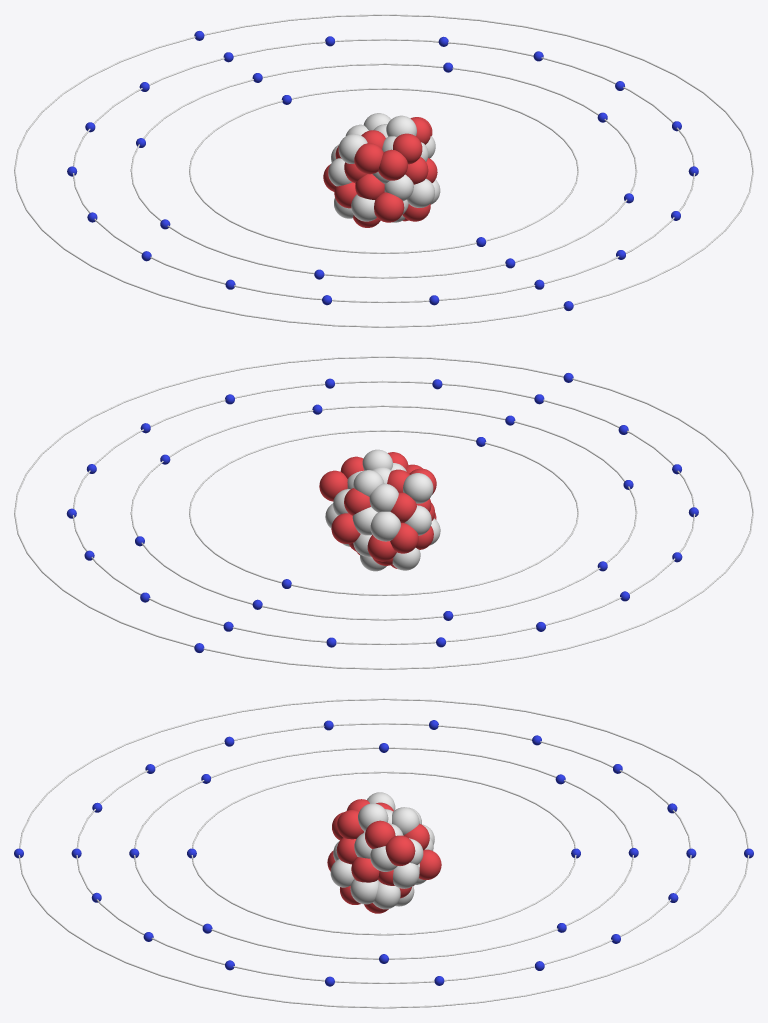
File: Zink.glb
The picture shows the model from 3 angles, top to bottom: view 1: azimuth 30°, elevation 25°; view 2: azimuth 150°, elevation 25°; view 3: azimuth 270°, elevation 25°; orthographic projection.
Parts seen in each view (by area): view 1: N-Schale, M-Schale, L-Schale, K-Schale, Proton 24, Proton 27, Proton 28, Proton 30, Proton 10, Neutron 27, Neutron 35; view 2: N-Schale, M-Schale, L-Schale, K-Schale, Neutron 8, Neutron 35, Neutron 16, Proton 18, Proton 29, Proton 4, Neutron 30, Proton 12; view 3: N-Schale, M-Schale, L-Schale, K-Schale, Proton 29, Proton 26, Proton 30, Neutron 34, Proton 22, Neutron 32, Neutron 33, Neutron 31 (+2 smaller).
Part boxes in pixels (x1,y1,x2,y2): N-Schale: (14,14,753,327); M-Schale: (72,38,695,303); L-Schale: (130,63,637,278); K-Schale: (189,88,578,253); Proton 24: (374,192,404,222); Proton 27: (378,149,407,180); Proton 28: (354,143,383,174); Proton 30: (393,133,422,164); Proton 10: (355,174,384,199); Neutron 27: (407,179,434,207); Neutron 35: (338,134,367,163); N-Schale: (14,356,753,669); M-Schale: (72,380,695,645); L-Schale: (130,405,637,620); K-Schale: (189,430,578,595); Neutron 8: (370,511,400,541); Neutron 35: (403,473,433,503); Neutron 16: (369,483,398,512); Proton 18: (331,513,360,543); Proton 29: (319,470,347,501); Proton 4: (390,523,418,553); Neutron 30: (353,470,384,496); Proton 12: (367,535,396,561); N-Schale: (18,698,749,1008); M-Schale: (76,723,691,983); L-Schale: (134,747,633,959); K-Schale: (191,771,576,935); Proton 29: (385,835,415,865); Proton 26: (365,820,395,848); Proton 30: (337,810,363,839); Neutron 34: (393,862,419,888); Proton 22: (351,857,379,882); Neutron 32: (350,879,378,904); Neutron 33: (373,881,400,909); Neutron 31: (358,803,388,831).
Size of the model in its own units: 19.04 by 3.03 by 19.26.
